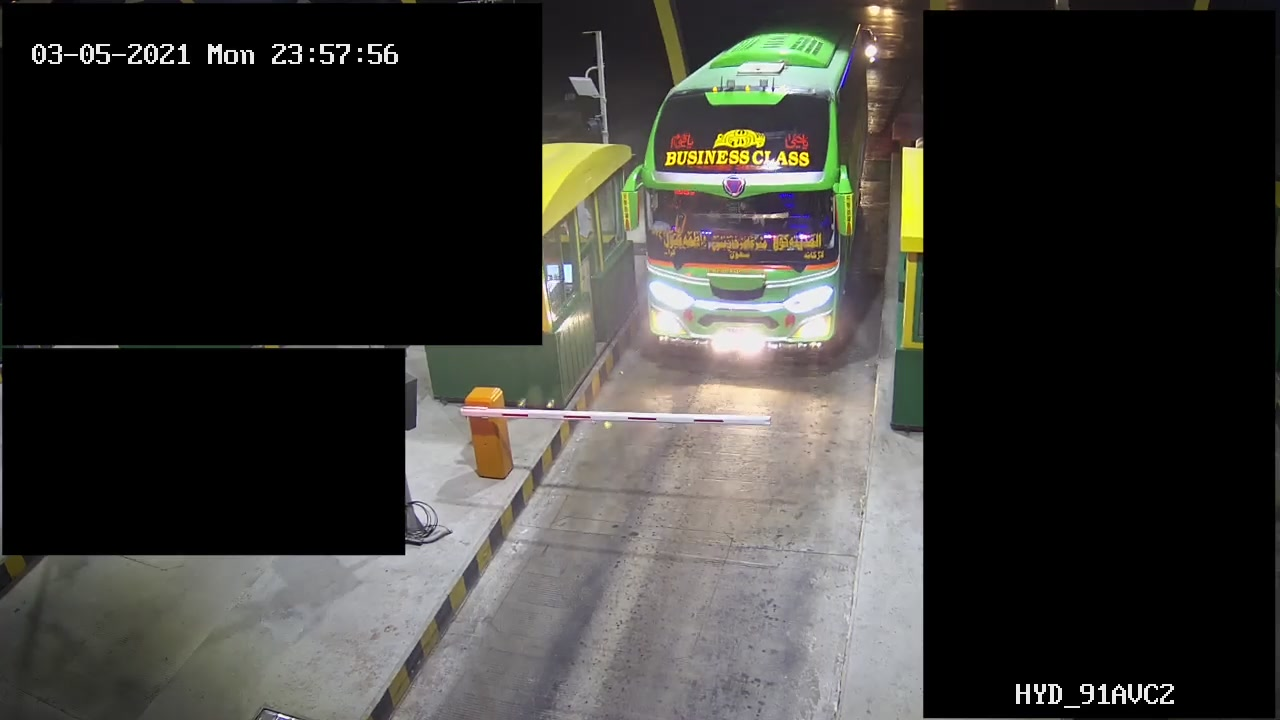F4: (642, 14, 864, 365)
